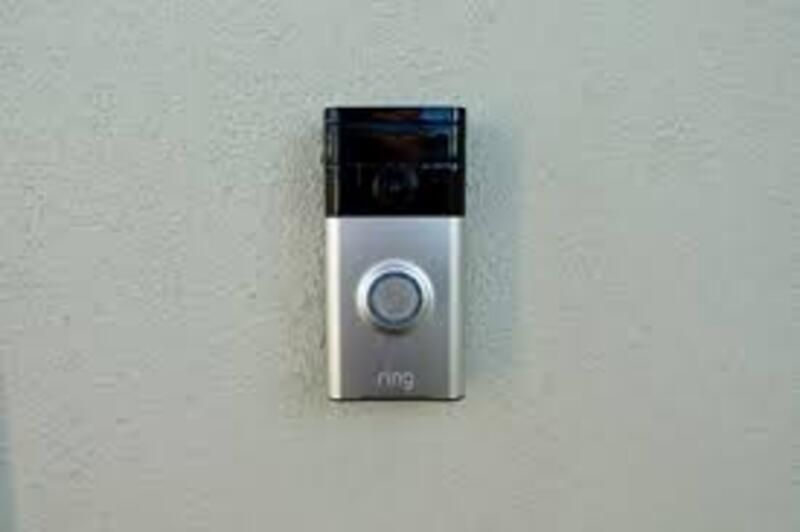doorbell: (310, 92, 471, 412)
